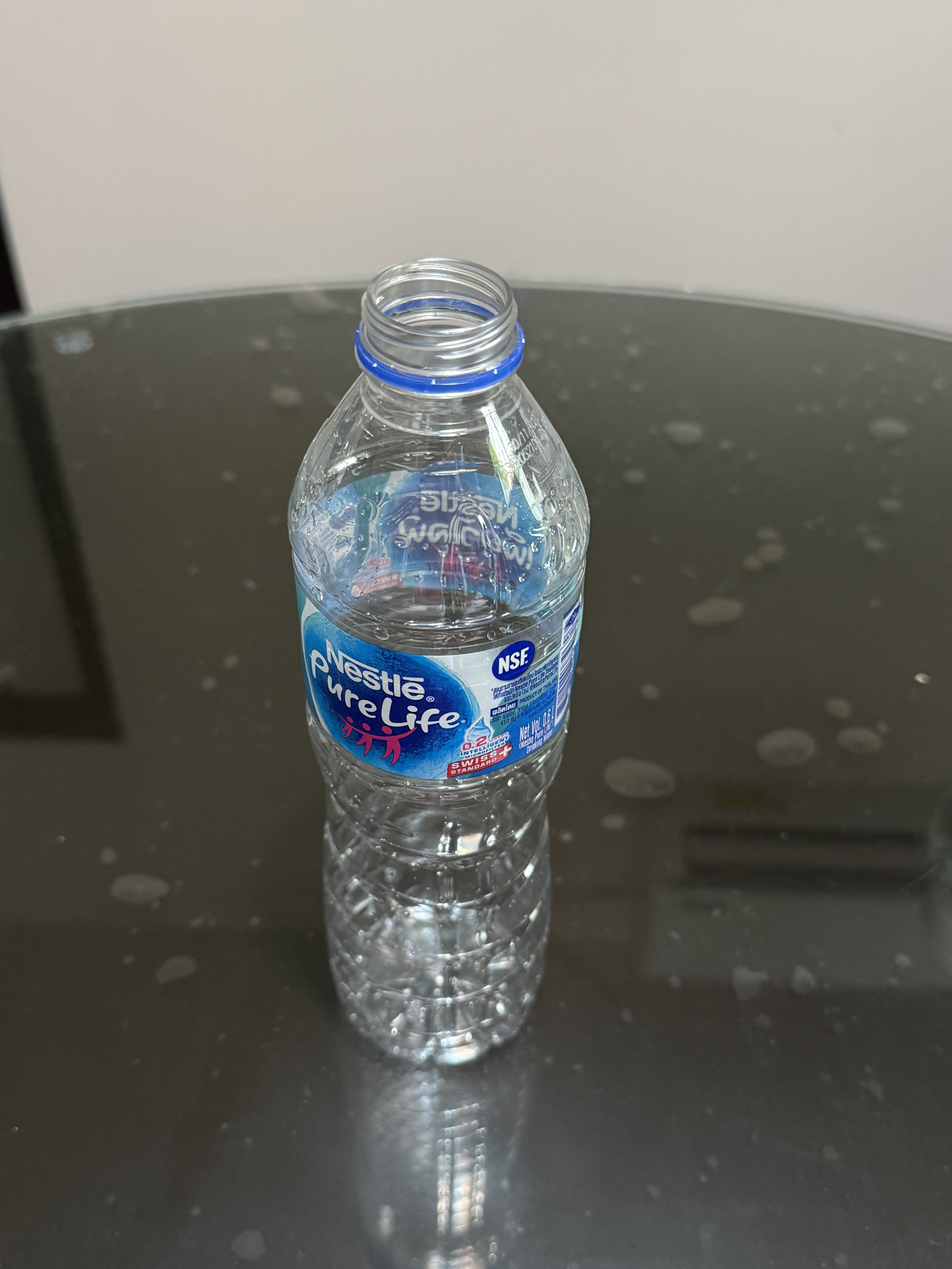no_cap: (348, 253, 530, 399)
